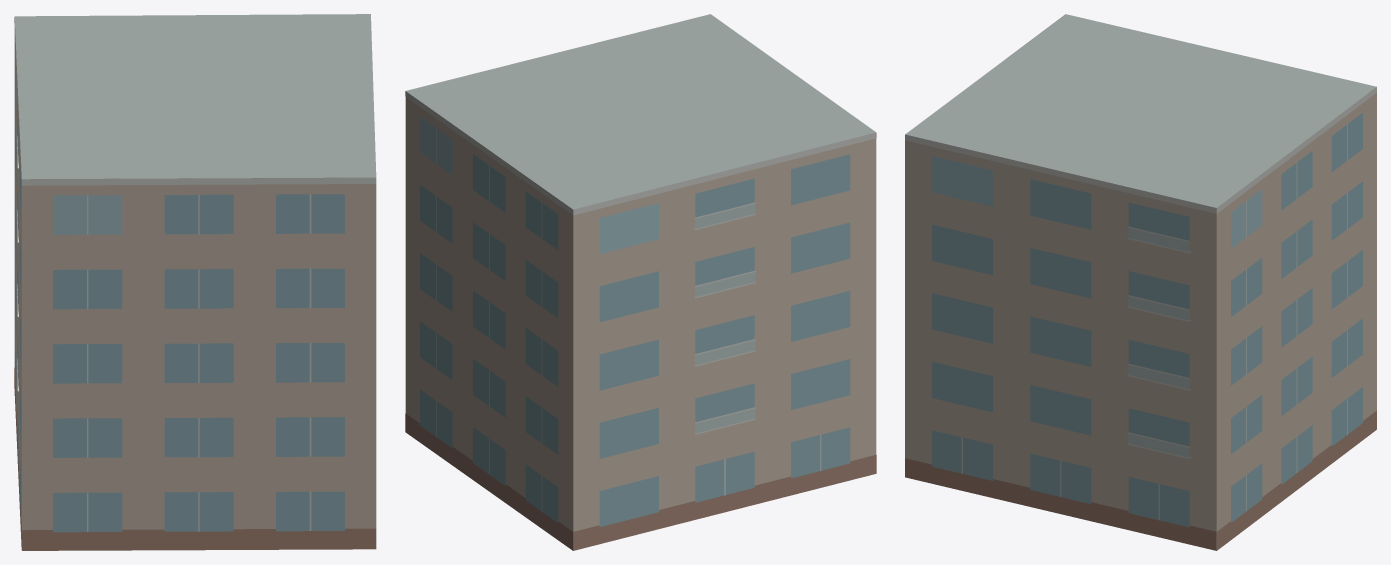
The model's file is survey-upis-32871457.glb.
3 renders of one model, left to right at view 1: azimuth 30°, elevation 25°; view 2: azimuth 150°, elevation 25°; view 3: azimuth 270°, elevation 25°, orthographic. The views are drawn at different scales.
Visible parts, largest first — view 1: survey-upis-32871457.tmp; view 2: survey-upis-32871457.tmp; view 3: survey-upis-32871457.tmp.
Boxes of the visible parts, left/top/right/bottom form: survey-upis-32871457.tmp: left=14, top=14, right=376, bottom=550; survey-upis-32871457.tmp: left=405, top=14, right=876, bottom=550; survey-upis-32871457.tmp: left=905, top=14, right=1376, bottom=550.
Bounding box in the file's own units: 17.24 × 14.2 × 17.72.
